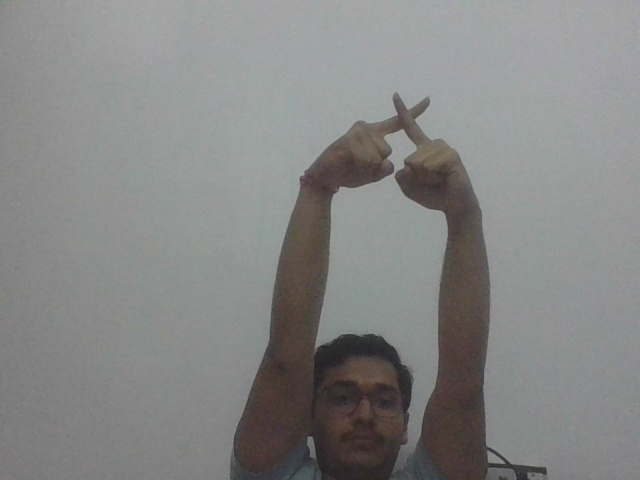X: (318, 85, 494, 212)
